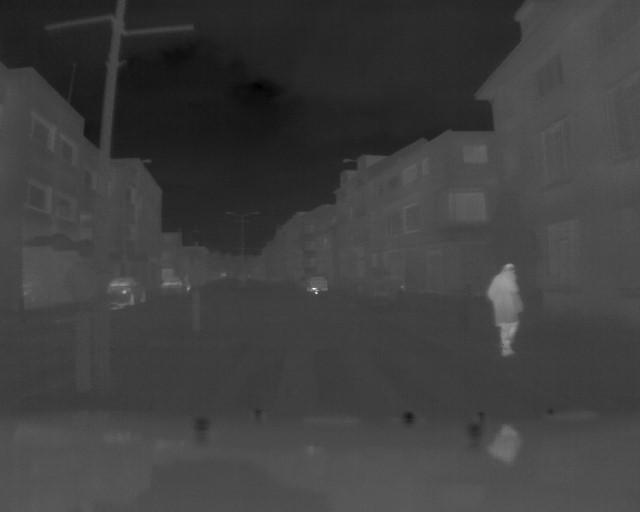car: (107, 277, 147, 309), (306, 276, 329, 294)
person: (487, 261, 526, 357)
